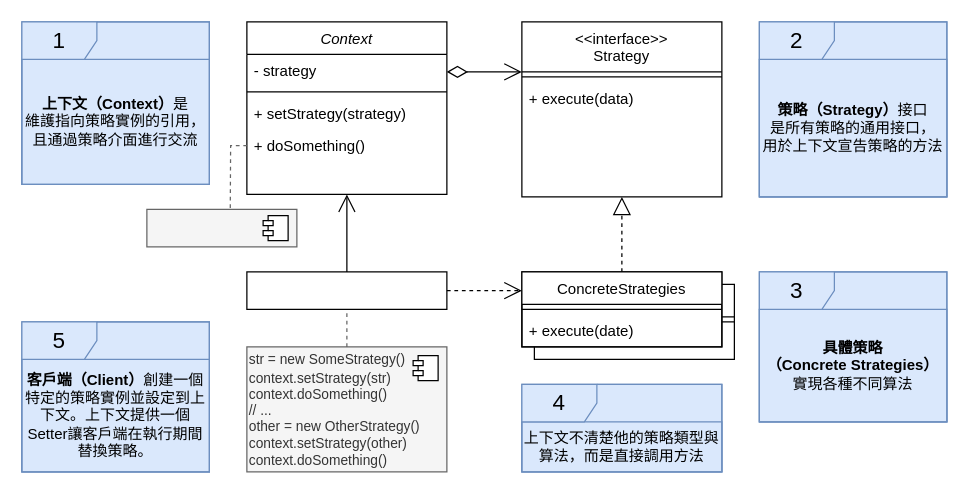
Some shapes in this 969 by 494 pixel diagram are drawn without their labels. Here are the shapes that lost their labels. From the top down, the centre of each, then its label:
At (221,227): "strategy.execute()".
At (346,290): "Client".
